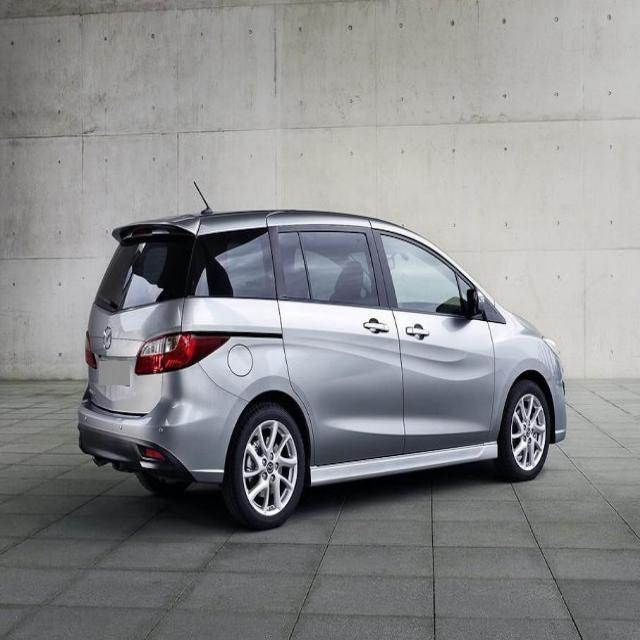back_glass: (93, 230, 195, 315)
back_left_side_light: (82, 331, 101, 371)
back_right_side_light: (134, 329, 233, 376)
door: (266, 217, 412, 464)
front_right_side_door: (371, 225, 497, 450)
front_right_side_mirror: (465, 283, 486, 321)
rear_bumper: (77, 360, 249, 483)
wheel: (228, 407, 306, 528), (501, 384, 551, 476)
